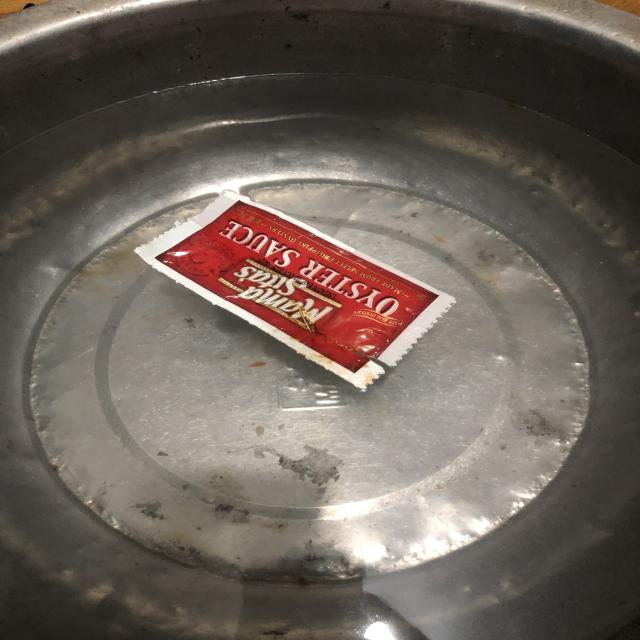Plastic Wrapper: (135, 188, 454, 389)
